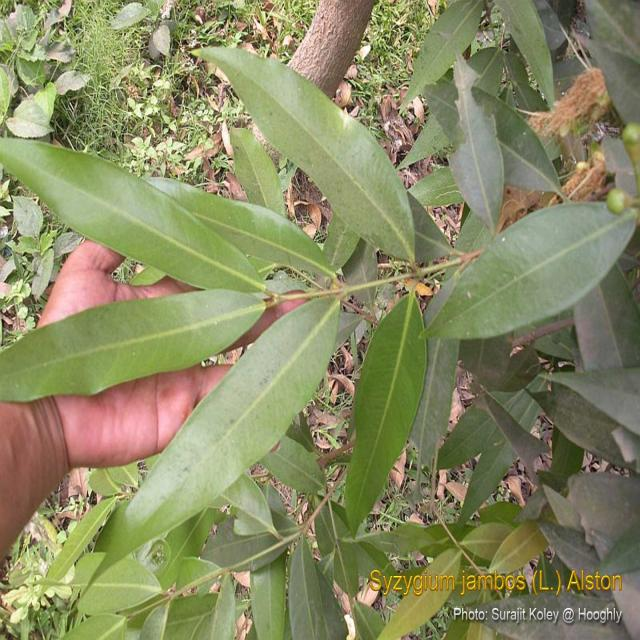Medicinal-Rose Apple: (0, 38, 640, 566)
